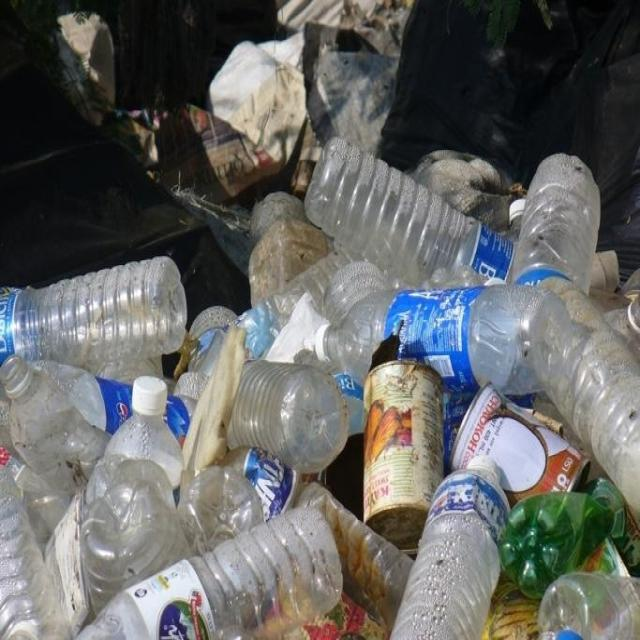garbage: (1, 3, 638, 638), (75, 504, 343, 638), (302, 135, 514, 286), (0, 254, 187, 380), (388, 453, 510, 638)
